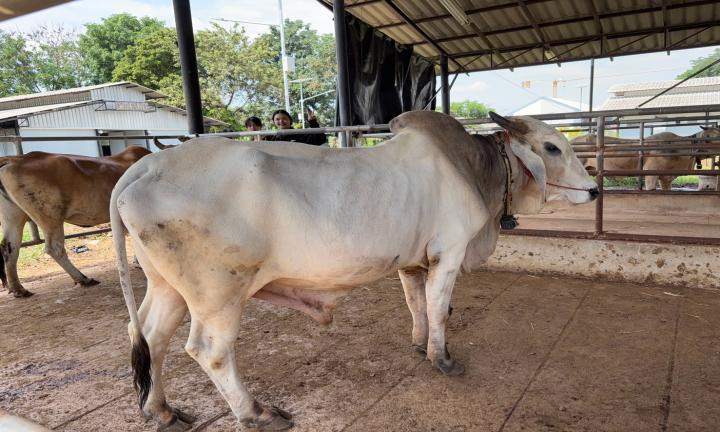Brahman: (110, 111, 598, 431)
